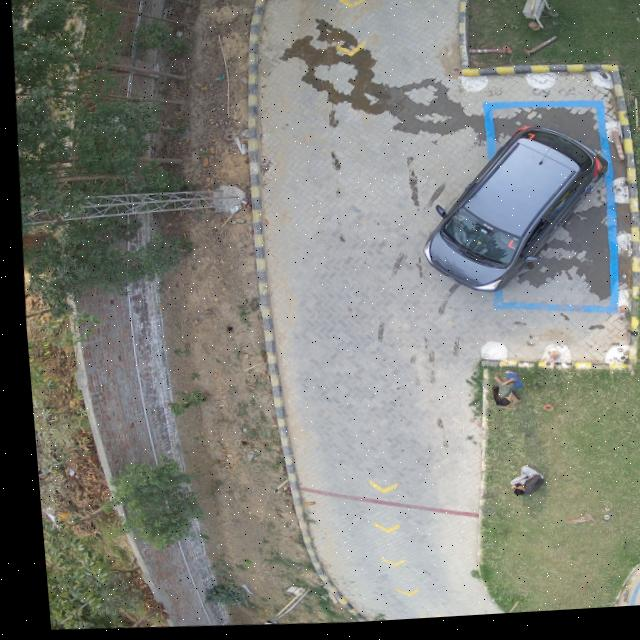car: (419, 131, 604, 296)
